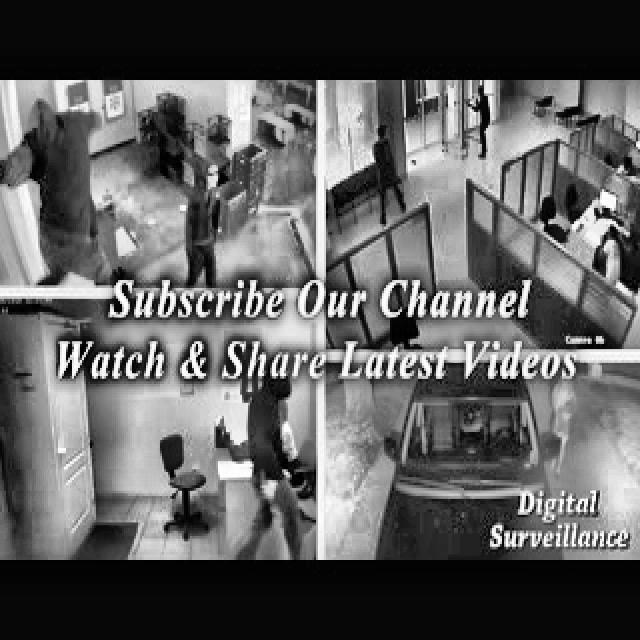robbery: (231, 378, 314, 560)
